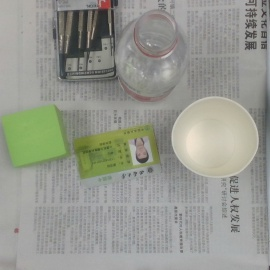bottle: (116, 11, 187, 106)
card: (73, 125, 164, 189)
cup: (170, 97, 259, 181)
